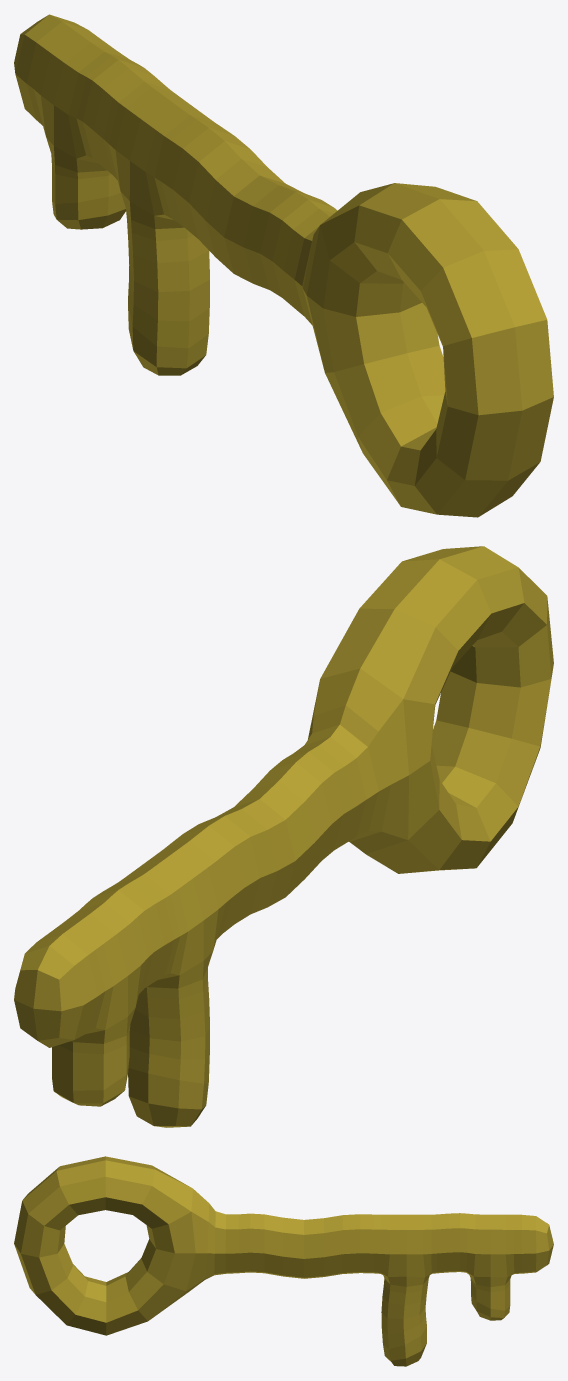
File: key.fbx
3 renders of one model, top to bottom at view 1: azimuth 30°, elevation 25°; view 2: azimuth 150°, elevation 25°; view 3: azimuth 270°, elevation 25°, orthographic. The views are drawn at different scales.
Visible parts, largest first — view 1: Cylinder; view 2: Cylinder; view 3: Cylinder.
Boxes of the visible parts, <box> form: Cylinder: <box>14,14,553,517</box>; Cylinder: <box>14,546,553,1127</box>; Cylinder: <box>14,1156,553,1366</box>.
Size of the model in its own units: 56.01 by 185 by 444.
